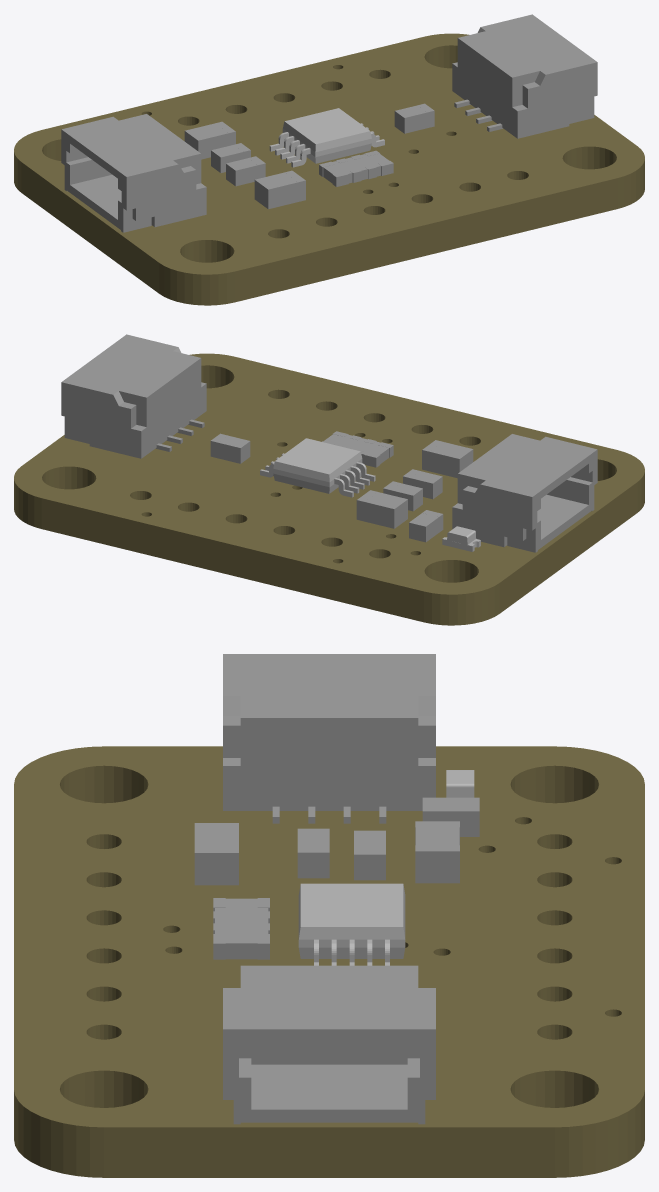
Rendered from adafruit-1085-ads1115.glb.
3 renders of one model, top to bottom at view 1: azimuth 30°, elevation 25°; view 2: azimuth 150°, elevation 25°; view 3: azimuth 270°, elevation 25°, orthographic. The views are drawn at different scales.
Parts seen in each view (by area): view 1: colour 1, colour 3, colour 2; view 2: colour 1, colour 3, colour 2; view 3: colour 1, colour 3, colour 2.
Boxes of the visible parts, left/top/right/bottom form: colour 1: left=14, top=33, right=644, bottom=305; colour 3: left=61, top=14, right=597, bottom=232; colour 2: left=269, top=108, right=384, bottom=167; colour 1: left=14, top=353, right=644, bottom=625; colour 3: left=61, top=334, right=597, bottom=552; colour 2: left=260, top=438, right=480, bottom=551; colour 1: left=14, top=746, right=644, bottom=1177; colour 3: left=194, top=654, right=479, bottom=1124; colour 2: left=298, top=770, right=474, bottom=965.
Size of the model in its own units: 0.0254 by 0.00453 by 0.0178.
